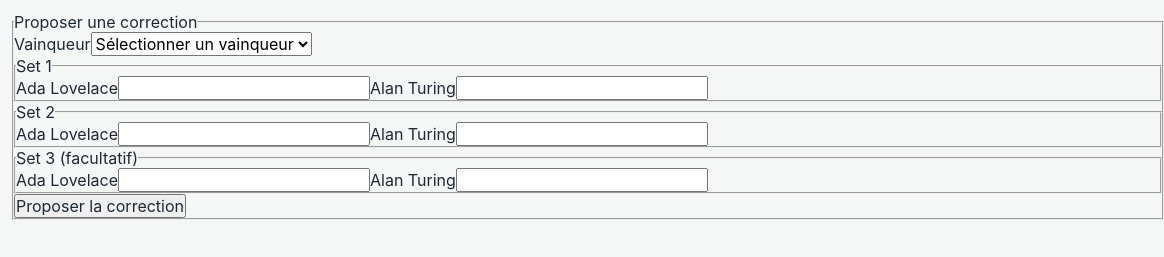
Scenario: ScoreForm › submits an alternate winner and score as a correction proposal
Type "4" into the number field named "Ada Lovelace, set 1" at coordinates (244, 88), box [118,76,370,100]
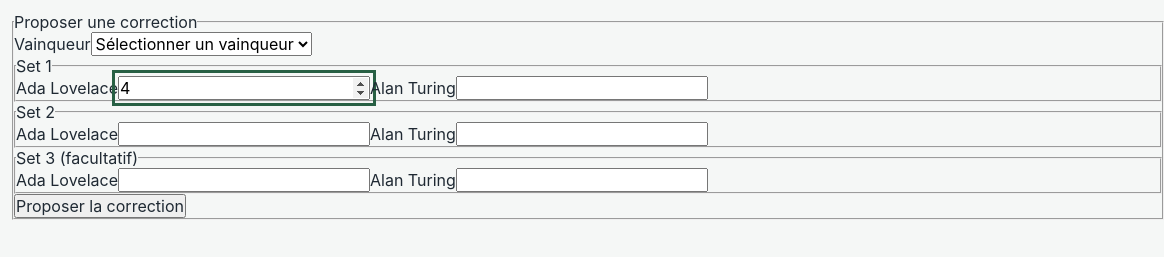
Type "6" into the number field named "Alan Turing, set 1" at coordinates (582, 88), box [456,76,708,100]
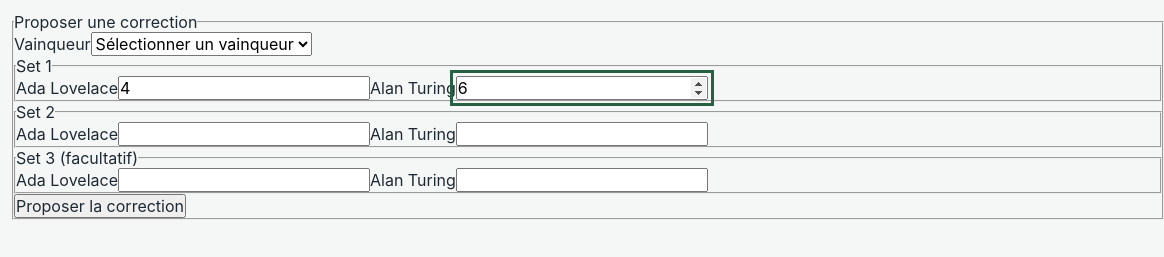
Type "3" into the number field named "Ada Lovelace, set 2" at coordinates (244, 134), box [118,122,370,146]
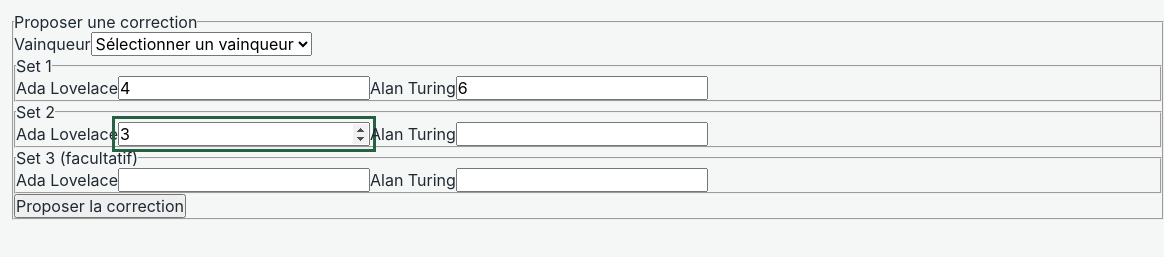
Type "6" into the number field named "Alan Turing, set 2" at coordinates (582, 134), box [456,122,708,146]
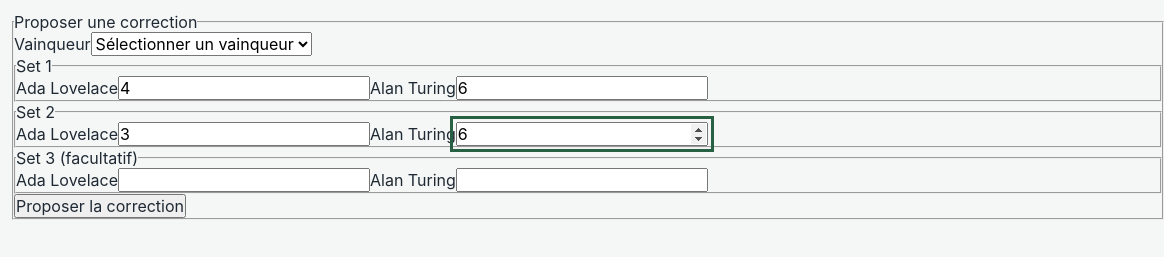
Select "Alan Turing" in the dropdown labelled "Vainqueur" at coordinates (201, 44), box [91,32,312,56]
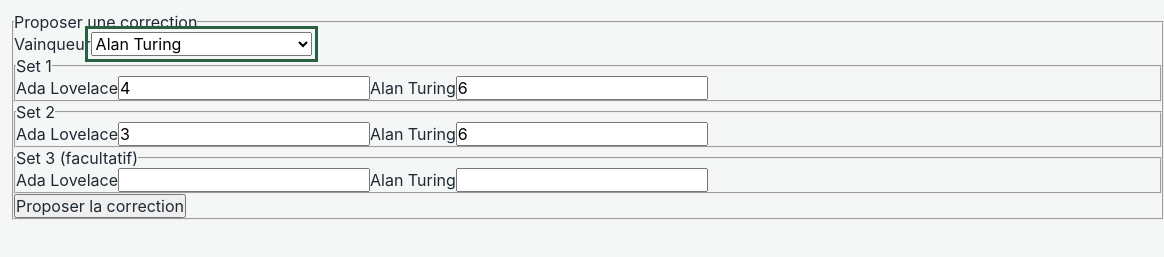
Click the button "Proposer la correction" at coordinates (100, 206), box [14,194,186,218]
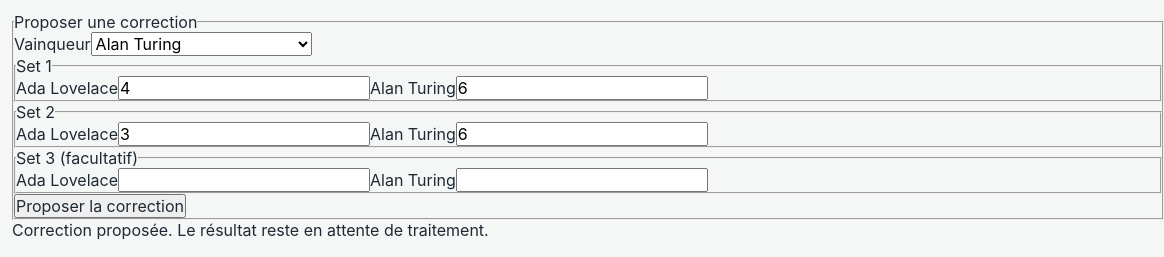
Expected: the text "Correction proposée. Le résultat reste en attente de traitement." is shown, [12,220,489,240]
